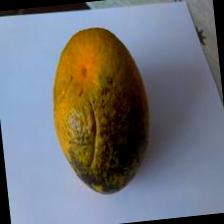Orange Rotten: (40, 16, 168, 202)
